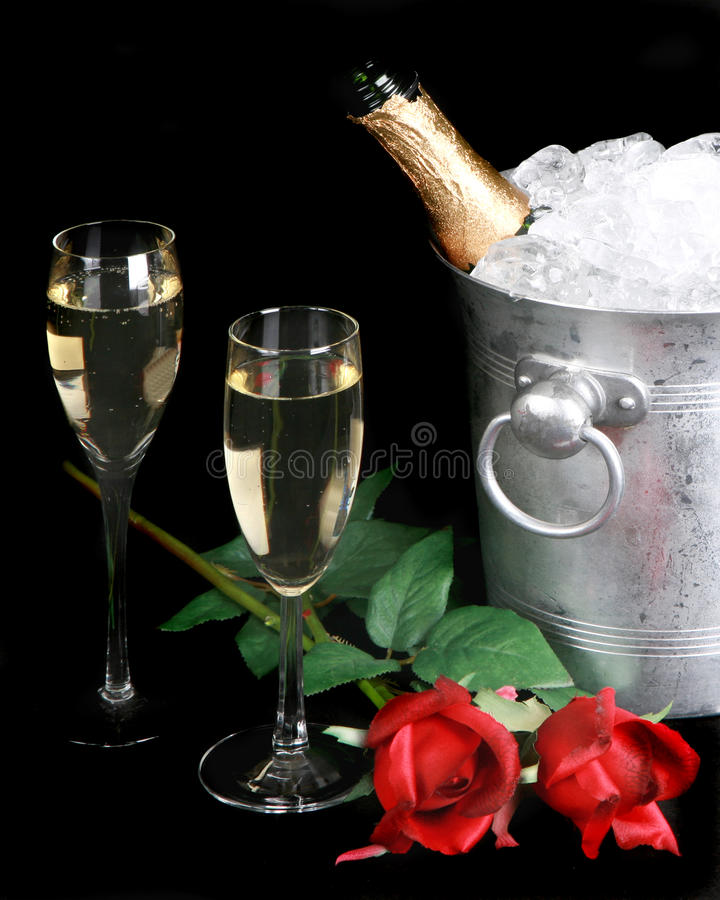RedRose: (348, 684, 533, 872), (520, 682, 706, 862)
